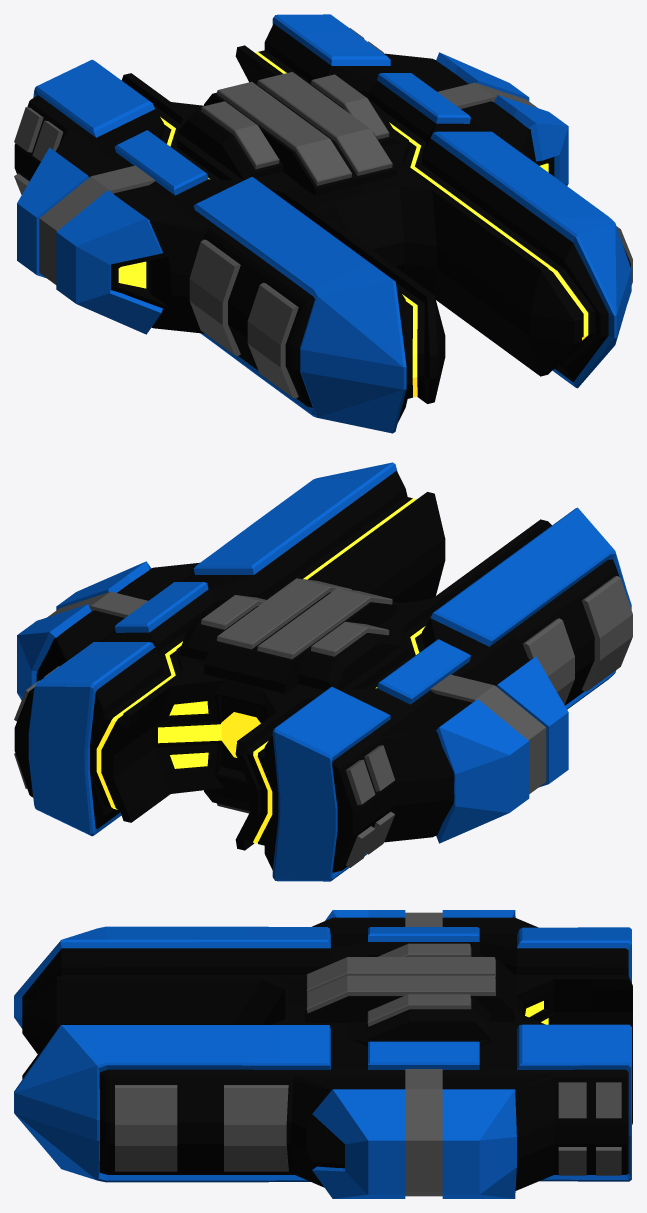
File: 01_ship_heavy_barvek.glb
3 renders of one model, top to bottom at view 1: azimuth 30°, elevation 25°; view 2: azimuth 150°, elevation 25°; view 3: azimuth 270°, elevation 25°, orthographic. The views are drawn at different scales.
Parts seen in each view (by area): view 1: 01_ship_heavy_barvek; view 2: 01_ship_heavy_barvek; view 3: 01_ship_heavy_barvek.
Boxes of the visible parts, x1,y1,x2,y2 form: 01_ship_heavy_barvek: (14,14,632,433); 01_ship_heavy_barvek: (14,462,632,881); 01_ship_heavy_barvek: (14,910,632,1198).
Size of the model in its own units: 0.8937 by 0.2963 by 1.03.
